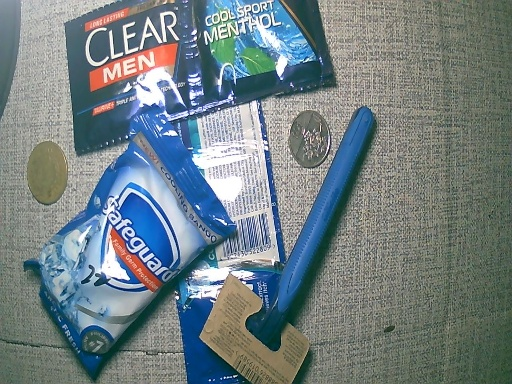metal: (23, 136, 71, 205), (284, 110, 332, 170)
plastic: (18, 119, 240, 368), (61, 1, 341, 132), (181, 99, 280, 274)
trash: (263, 108, 380, 340), (206, 275, 309, 384)
